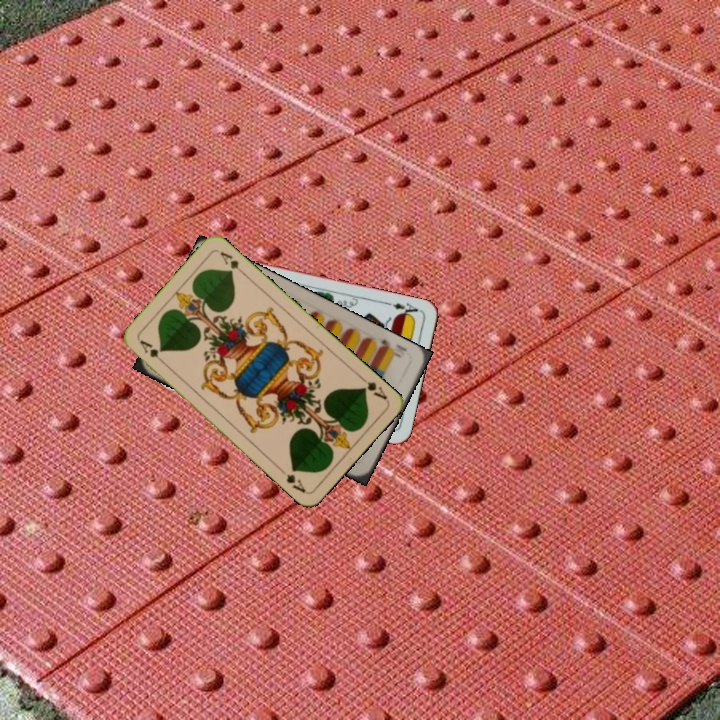E10: (375, 335, 404, 361)
EA: (383, 298, 420, 320)
GA: (356, 372, 390, 403), (135, 336, 168, 367)
